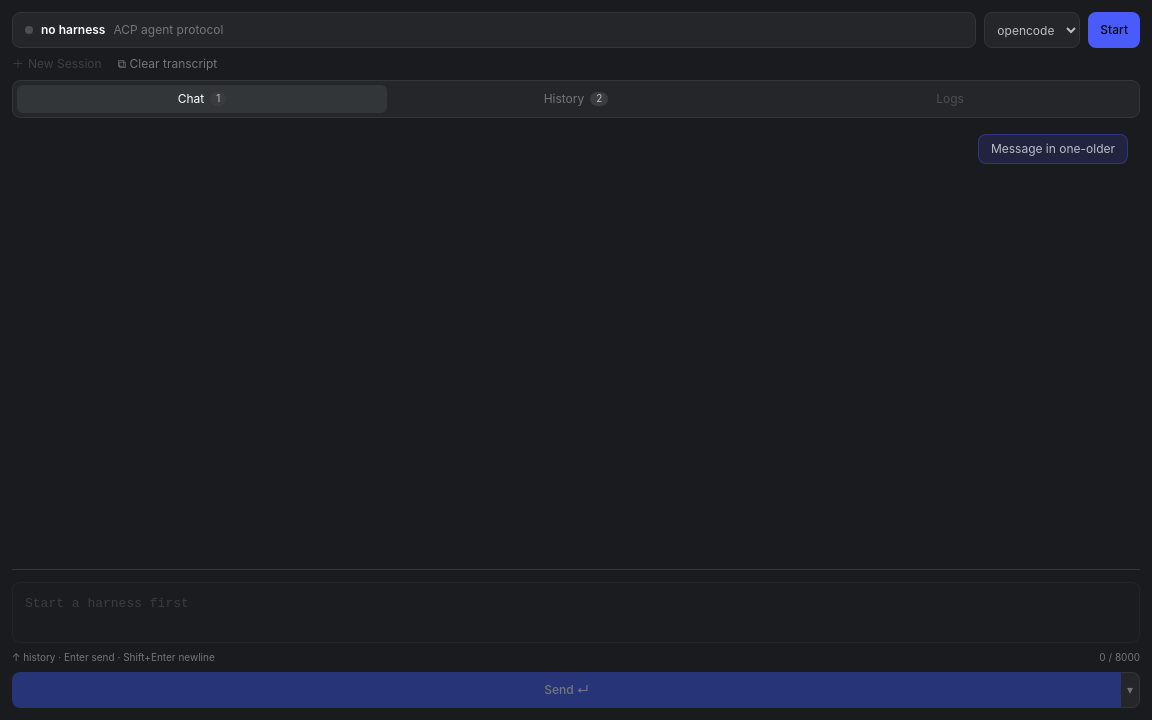
Test: clearing the displayed agent transcript › keeps another chat opened while clear is in flight
Click the button "⧉ Clear transcript". click: (167, 64)
box: x1=118 y1=56 x2=217 y2=72
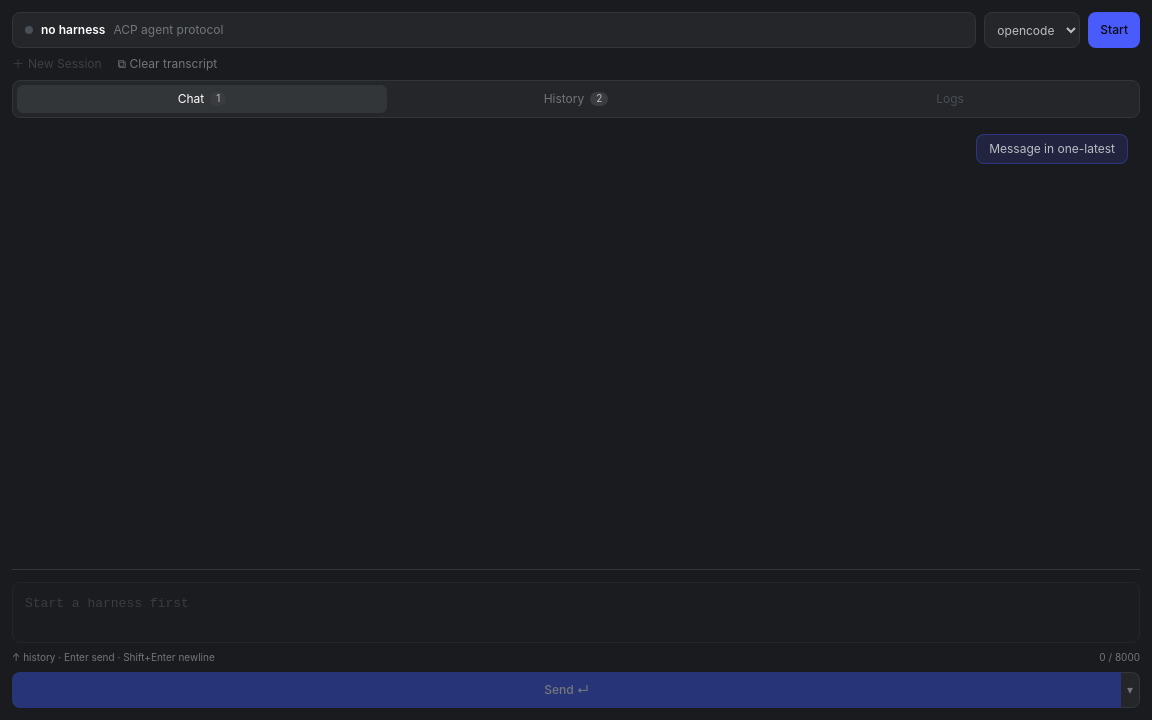
Now the text "Message in one-latest" is shown, box x1=976 y1=134 x2=1128 y2=164
